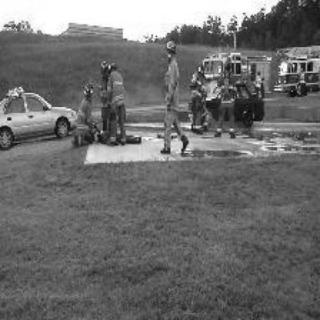other: (268, 38, 314, 91), (198, 41, 232, 93)
